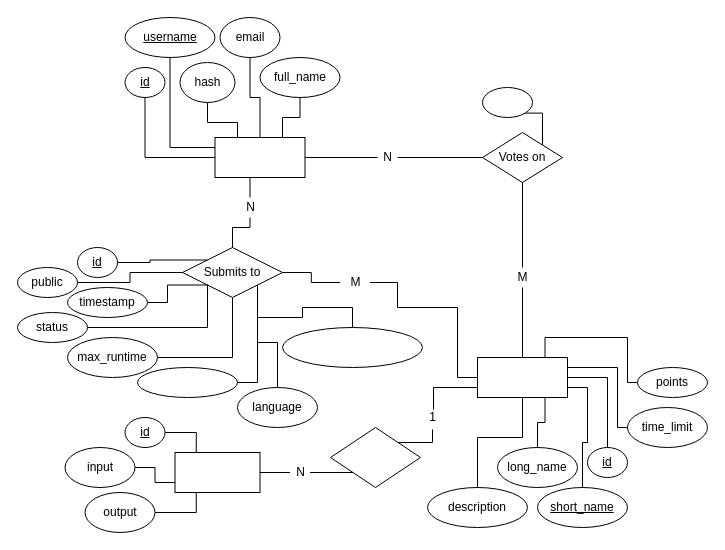
Some shapes in this 725 by 550 pixel diagram are drawn without their labels. Here are the shapes that lost their labels. From the top down, the centre of each, then its label:
At [507,102]: "type".
At [259,157]: "Account".
At [352,347]: "test_cases_succeeded".
At [187,382]: "source_code".
At [522,377]: "Problem".
At [217,472]: "Test Case".
At [375,457]: "Belongs to".
